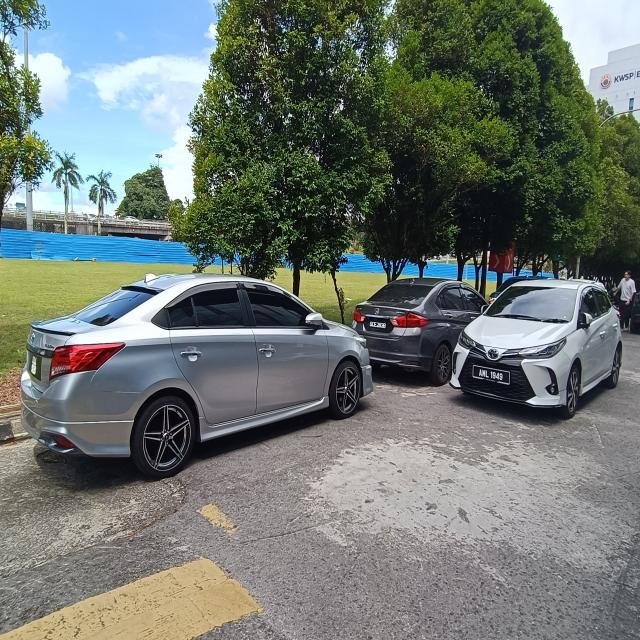PeroduaBezza: (19, 270, 374, 482)
